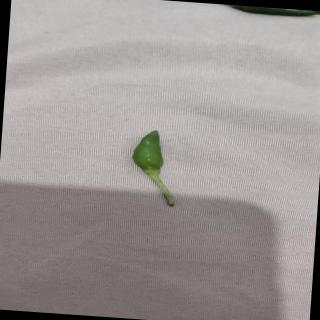Cabai Hijau: (125, 125, 190, 210)
